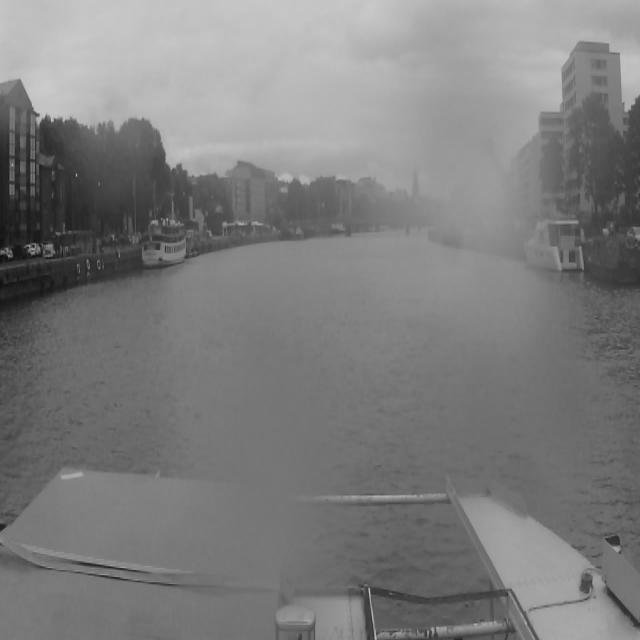ship: (520, 205, 587, 272), (140, 215, 188, 271), (587, 228, 633, 286)
